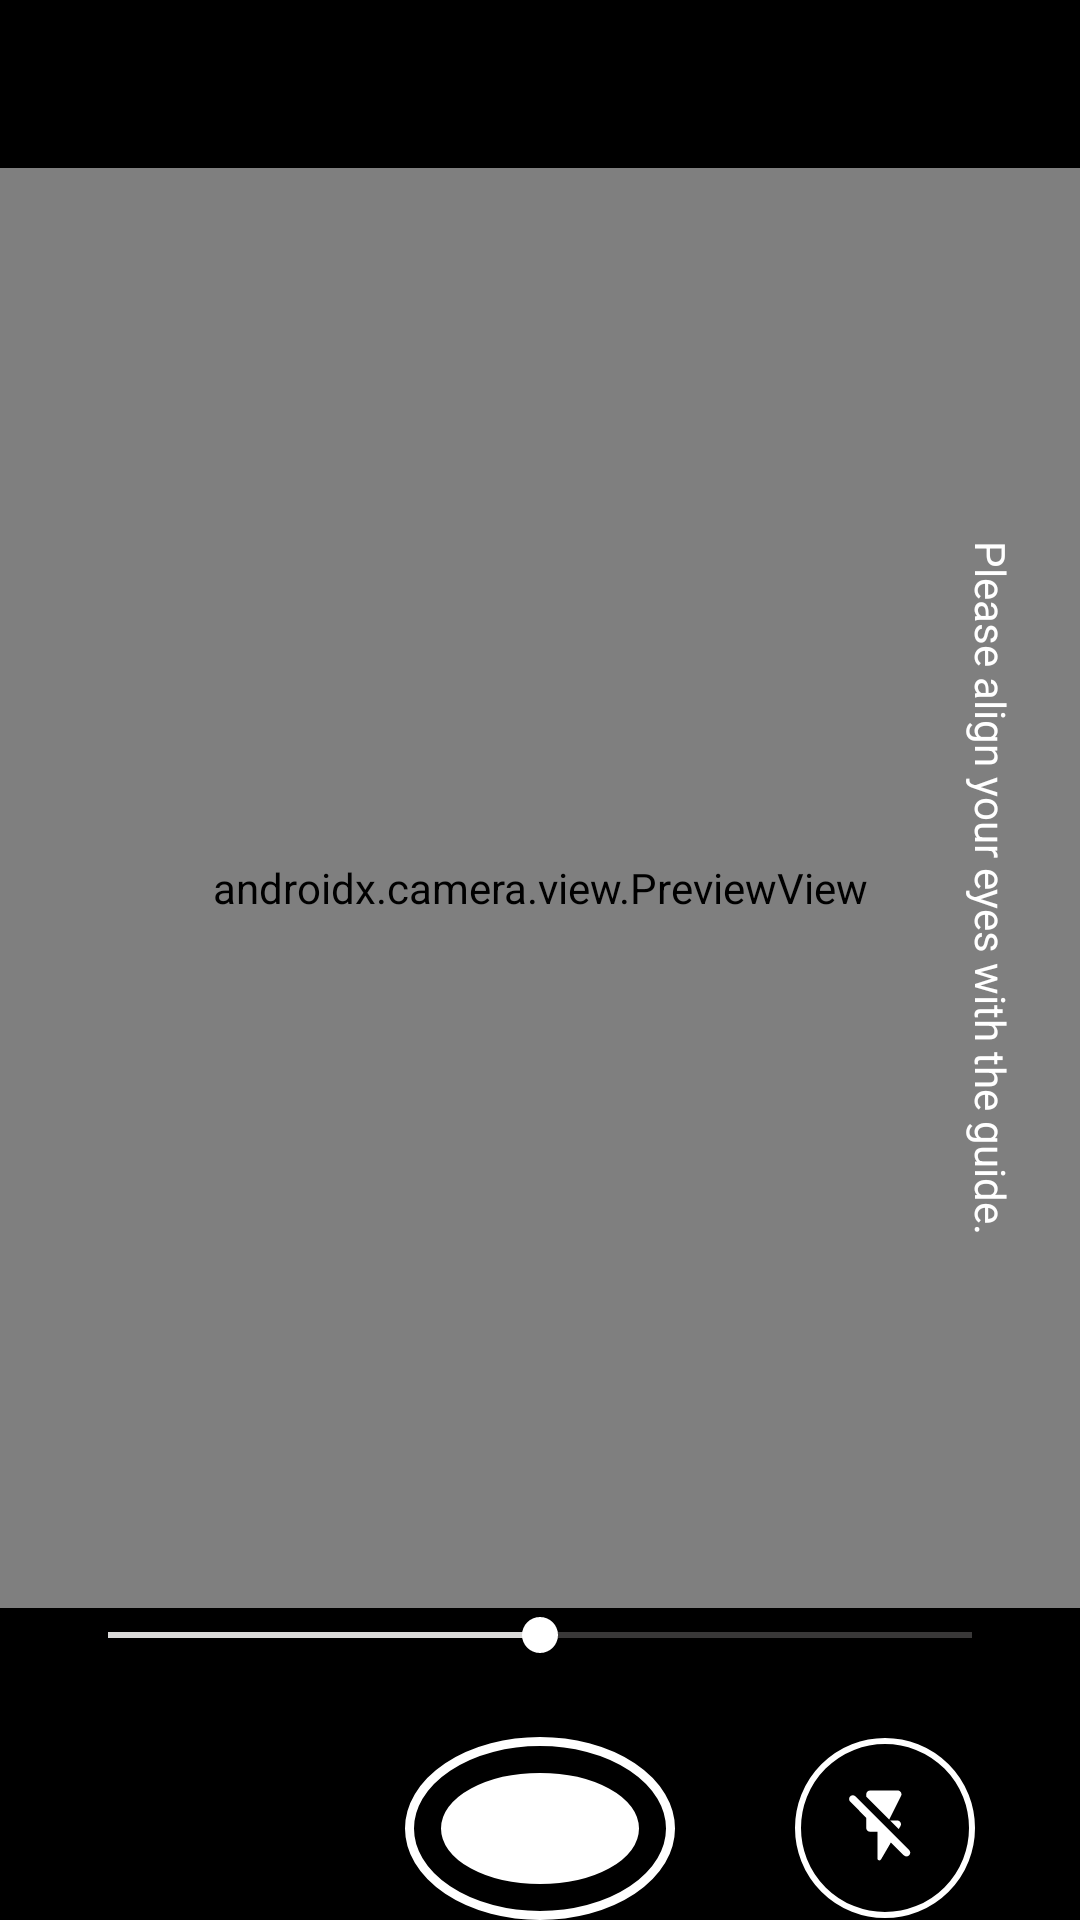

Locate icon controls on the screen. Image size 1080px×1920px, boxes as (x1, y1, x2, y2).
camera capture: (405, 1737, 675, 1920)
camera flash off: (795, 1738, 975, 1918)
